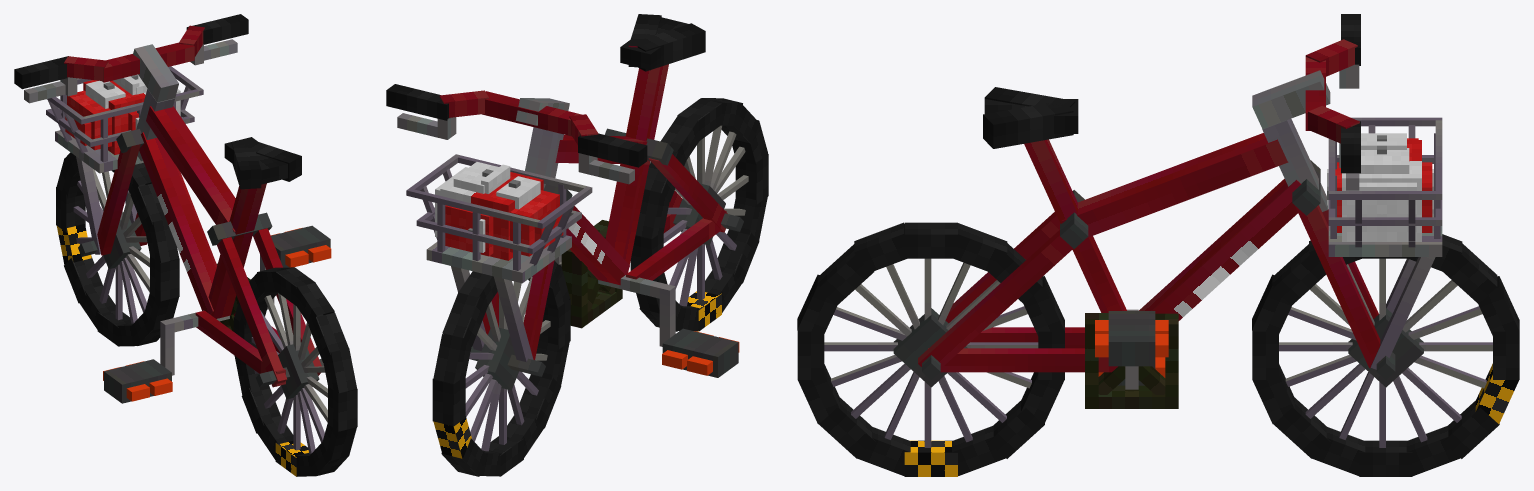
File: bicycle.fbx
3 renders of one model, left to right at view 1: azimuth 30°, elevation 25°; view 2: azimuth 150°, elevation 25°; view 3: azimuth 270°, elevation 25°, orthographic. The views are drawn at different scales.
Parts seen in each view (by area): view 1: body, readWheel, frontWheel, pedals; view 2: body, frontWheel, readWheel, pedals; view 3: body, readWheel, frontWheel, pedals.
Part boxes in pixels (x1,y1,x2,y2): body: (14, 14, 327, 453); readWheel: (233, 267, 357, 476); frontWheel: (56, 152, 179, 346); pedals: (103, 225, 331, 403); body: (386, 14, 748, 451); frontWheel: (432, 260, 570, 476); readWheel: (630, 98, 768, 331); pedals: (554, 255, 739, 377); body: (824, 14, 1492, 447); readWheel: (797, 222, 1064, 476); frontWheel: (1252, 234, 1519, 476); pedals: (1095, 309, 1168, 389).
Size of the model in its own units: 584 by 762 by 1262.
